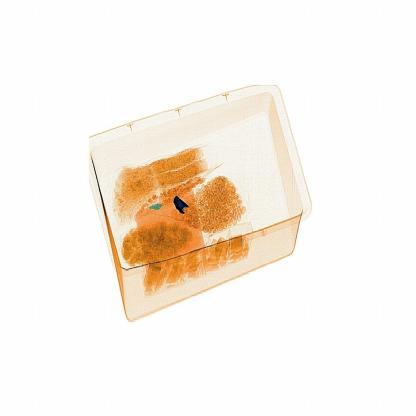pliers: (166, 189, 198, 231)
